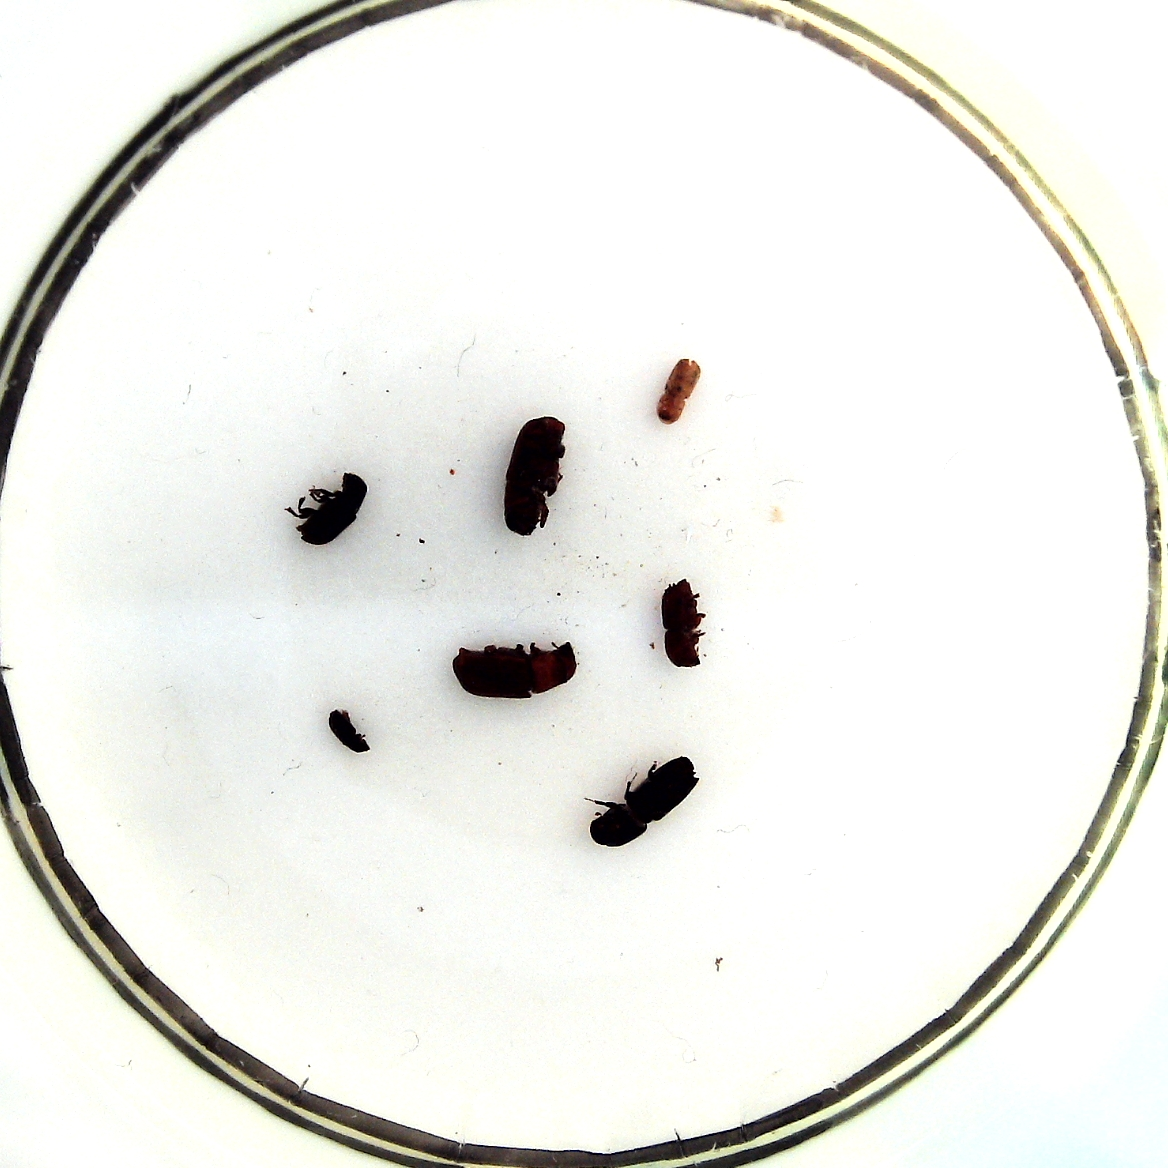Boerner: (590, 756, 700, 844)
Leconte: (503, 416, 565, 535), (452, 643, 577, 698)
acuminatus: (328, 709, 371, 753)
armandi: (295, 472, 367, 545)
coleoptera: (656, 357, 700, 424)
linnaeus: (662, 577, 705, 666)
